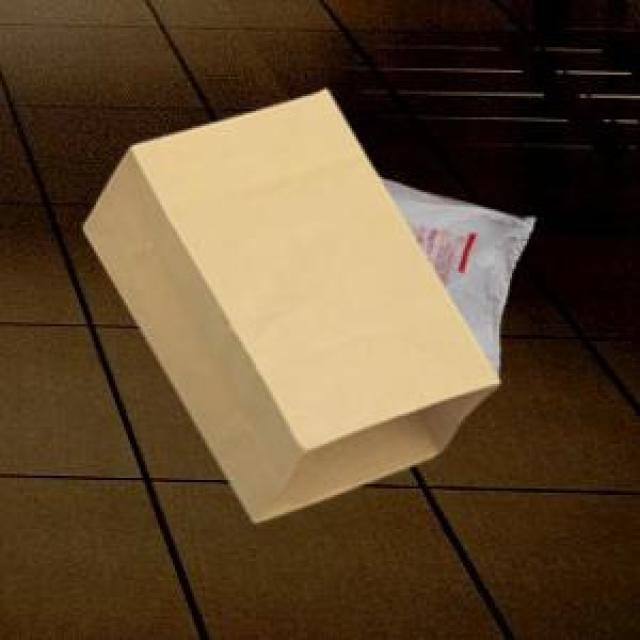paper: (79, 85, 495, 518)
